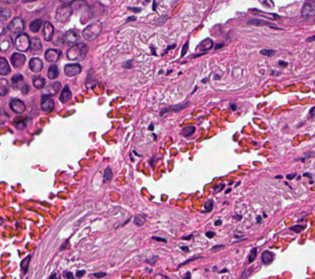nucleus: (160, 102, 189, 115), (66, 43, 87, 60), (42, 82, 60, 95), (64, 63, 81, 76), (179, 256, 201, 266), (63, 30, 78, 44), (45, 49, 60, 62), (41, 95, 53, 111), (29, 58, 42, 72), (261, 250, 274, 264), (60, 86, 71, 102), (199, 38, 212, 51), (30, 37, 41, 51), (47, 65, 58, 78), (181, 126, 195, 136), (33, 76, 44, 88), (103, 167, 112, 181), (202, 200, 212, 212), (248, 248, 256, 262), (134, 215, 144, 226), (289, 225, 304, 232), (181, 42, 188, 56), (260, 49, 274, 56), (241, 268, 251, 277), (152, 236, 166, 242), (213, 184, 224, 191), (286, 173, 296, 179), (94, 272, 105, 277), (206, 231, 214, 237), (76, 270, 84, 276), (183, 234, 192, 239), (310, 106, 314, 116), (303, 173, 311, 178), (180, 246, 188, 251), (307, 35, 313, 41), (212, 245, 223, 248), (215, 220, 221, 225), (66, 272, 72, 277), (279, 61, 286, 65), (219, 268, 226, 272), (257, 216, 261, 222), (149, 124, 153, 129), (225, 188, 230, 192), (186, 272, 189, 277), (231, 105, 235, 108)
